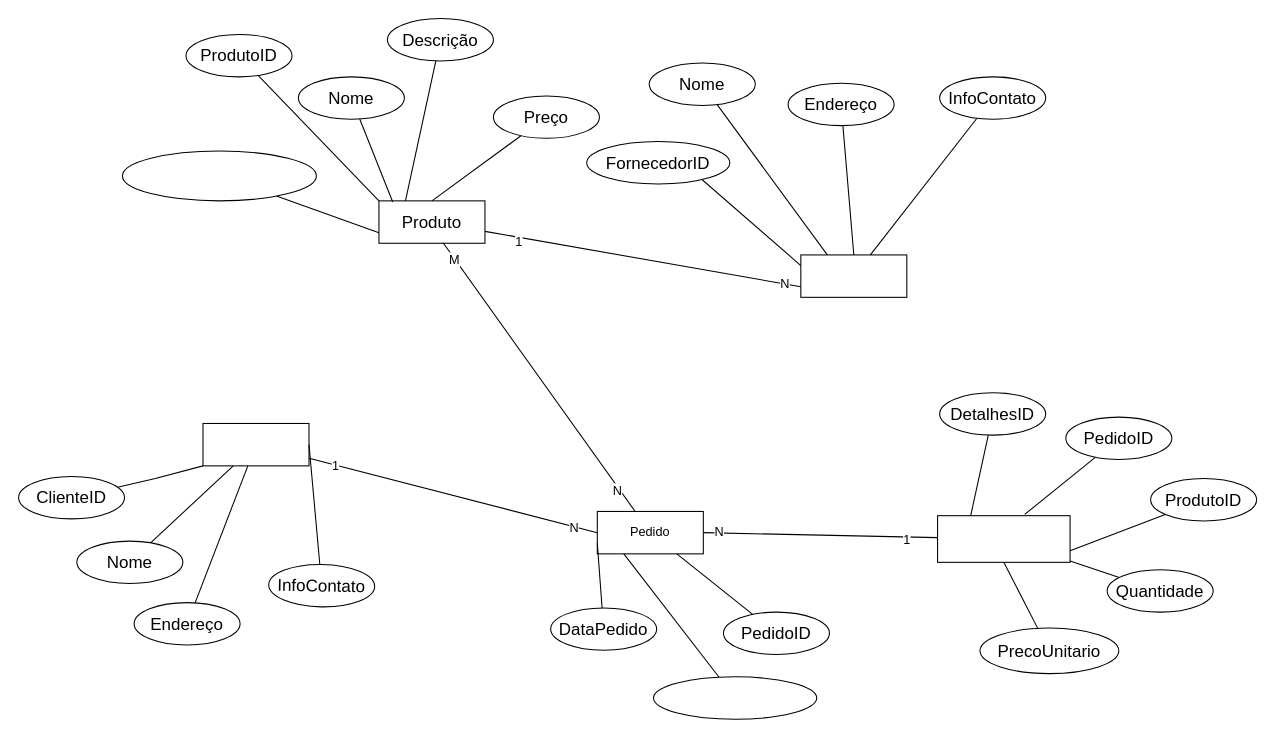
This 1275x738 diagram has some shape labels left out. The centre of each missing label's shape, as x and y in pixels:
Cliente: the point at 255,444
DetalhesPedido: the point at 1003,538
Fornecedor: the point at 853,275
QuantidadeEstoque: the point at 218,175
StatusPedido: the point at 734,697
